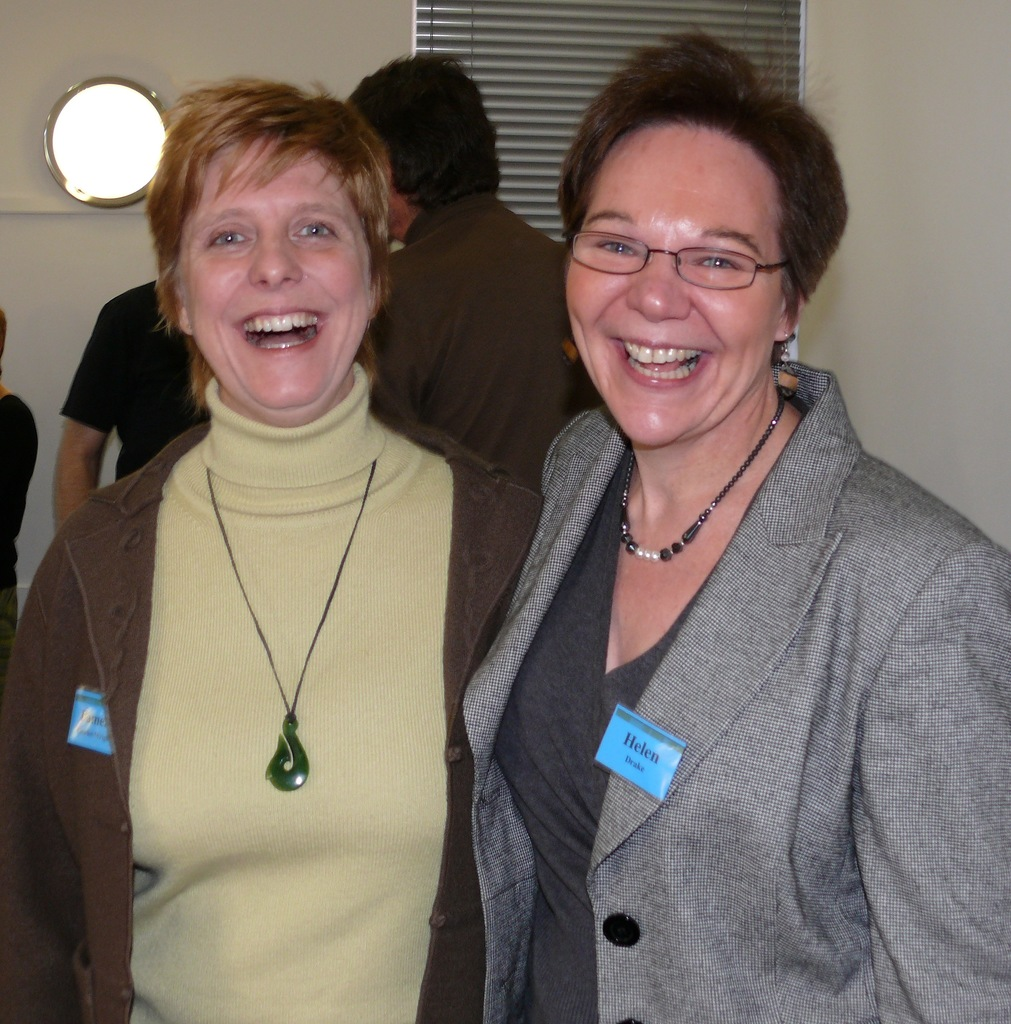Human-face: (561, 124, 777, 445), (171, 138, 379, 421)
